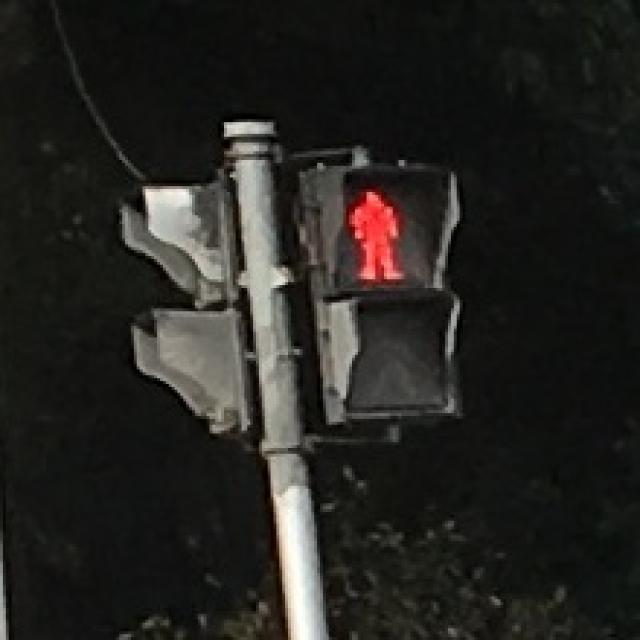red-crossing: (338, 174, 410, 291)
